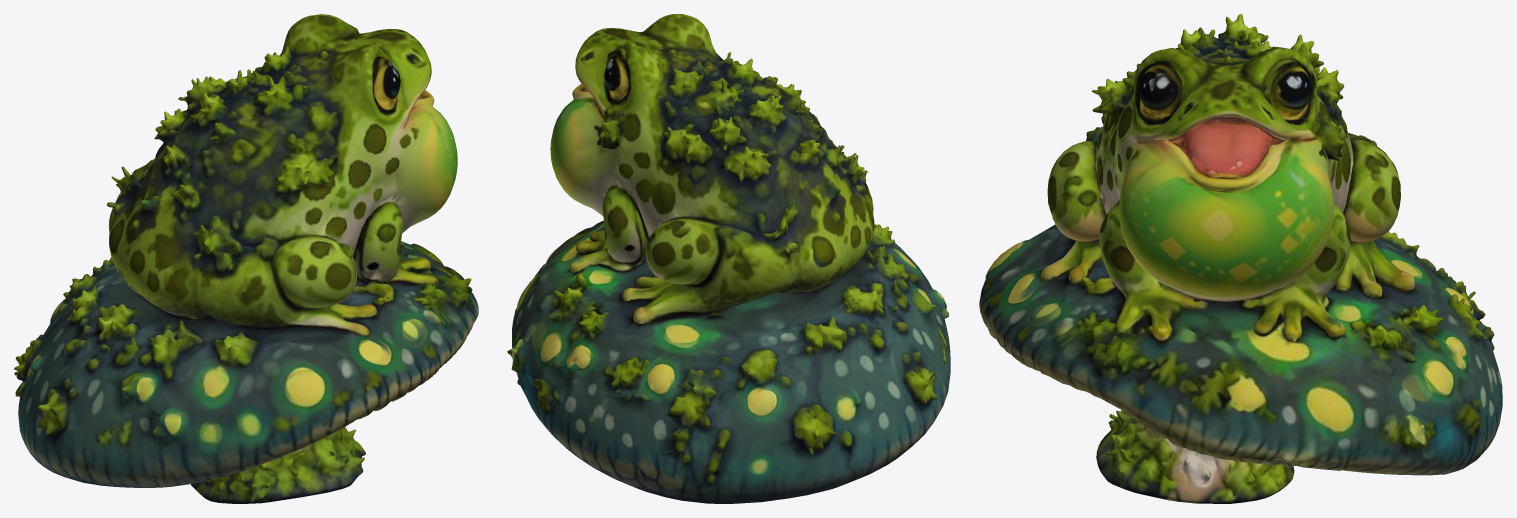
The model's file is n4_glowcroak.90fcee47.glb.
3 views of the same model, side by side, from view 1: azimuth 30°, elevation 25°; view 2: azimuth 150°, elevation 25°; view 3: azimuth 270°, elevation 25° (orthographic). The views are drawn at different scales.
Parts seen in each view (by area): view 1: tripo_node_54bab4bc-19cd-41d0-b0c2-81fc63142c93; view 2: tripo_node_54bab4bc-19cd-41d0-b0c2-81fc63142c93; view 3: tripo_node_54bab4bc-19cd-41d0-b0c2-81fc63142c93.
Part boxes in pixels (bbox=[...]): tripo_node_54bab4bc-19cd-41d0-b0c2-81fc63142c93: bbox=[14, 14, 478, 503]; tripo_node_54bab4bc-19cd-41d0-b0c2-81fc63142c93: bbox=[507, 14, 950, 503]; tripo_node_54bab4bc-19cd-41d0-b0c2-81fc63142c93: bbox=[979, 14, 1502, 503].
Bounding box in the file's own units: 1 × 0.9574 × 0.951.
Materials: 1 (1 with a texture image).
